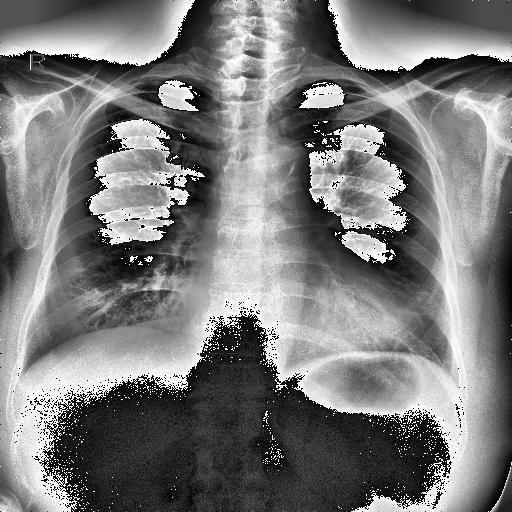0- Aortic enlargement: (254, 136, 311, 188)
3- Cardiomegaly: (188, 276, 428, 370), (187, 264, 425, 354), (186, 290, 411, 370)
